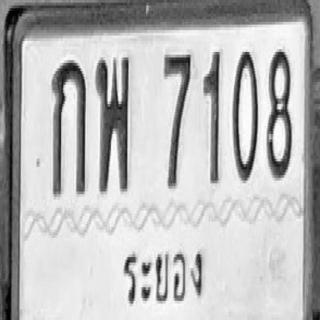A01: (51, 57, 86, 194)
A30: (96, 53, 130, 190)
N00: (232, 48, 258, 179)
N01: (203, 49, 220, 183)
N07: (163, 51, 190, 187)
N08: (267, 47, 292, 178)
P53: (119, 235, 204, 307)
